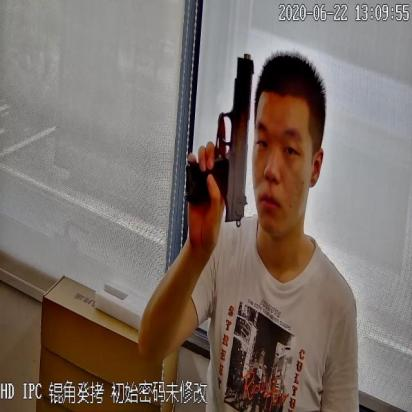Gun: (186, 46, 258, 219)
